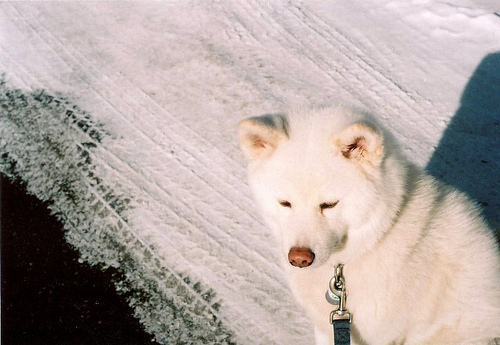dog: (237, 98, 499, 344)
